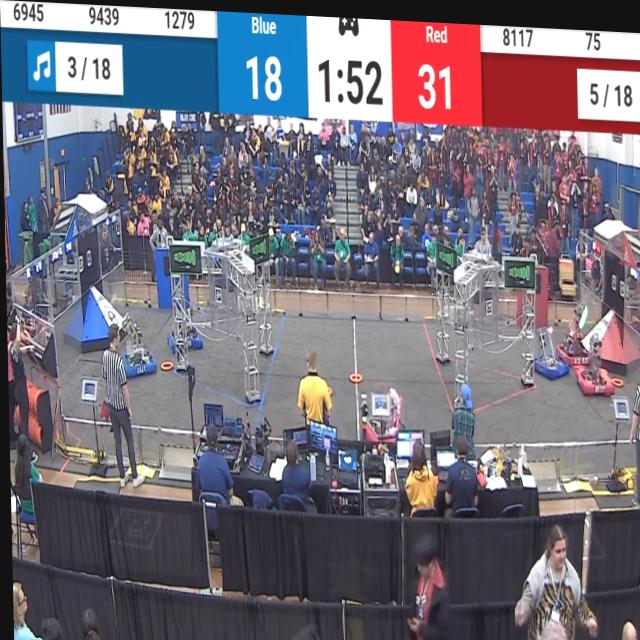Robot: (570, 316, 618, 396), (356, 372, 407, 447), (114, 311, 153, 381), (558, 290, 591, 363), (532, 313, 567, 378), (166, 297, 200, 354)
